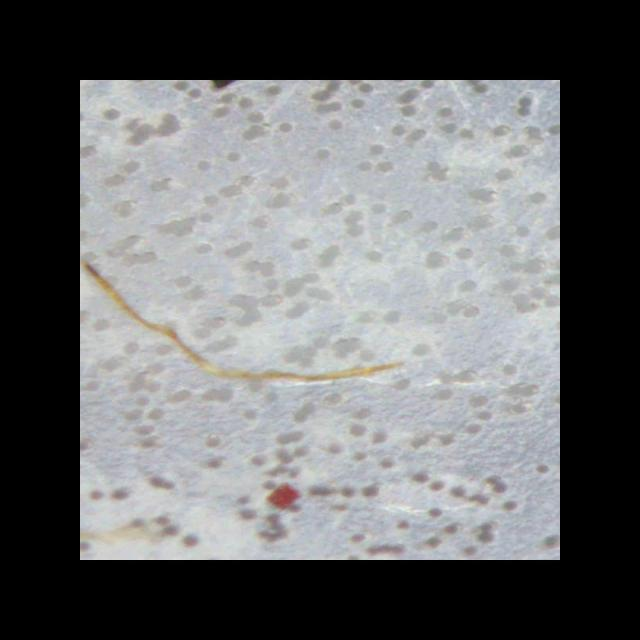Fibre: (80, 258, 402, 384)
